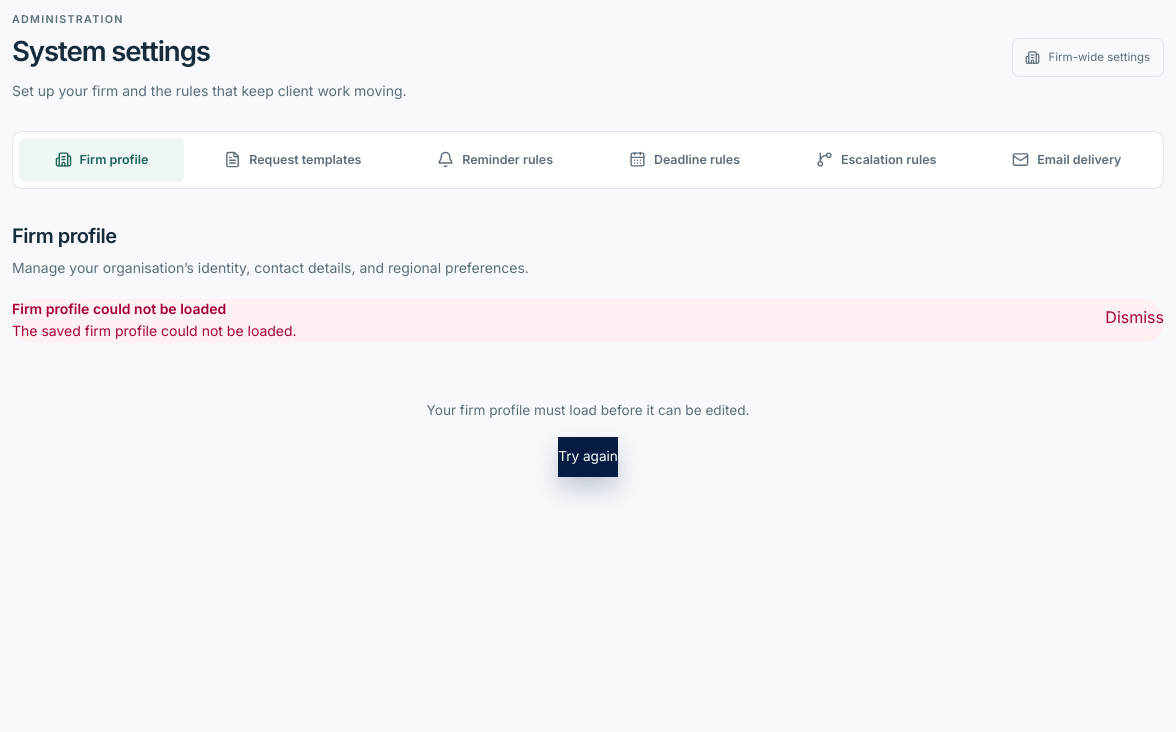
Test case: system settings › does not allow overwriting settings when loading fails
This screenshot has width=1176, height=732.
Expected: the text "Firm profile could not be loaded" is shown, [12,300,226,317]
Click the button "Request templates" at (293, 160), box [188,138,397,182]
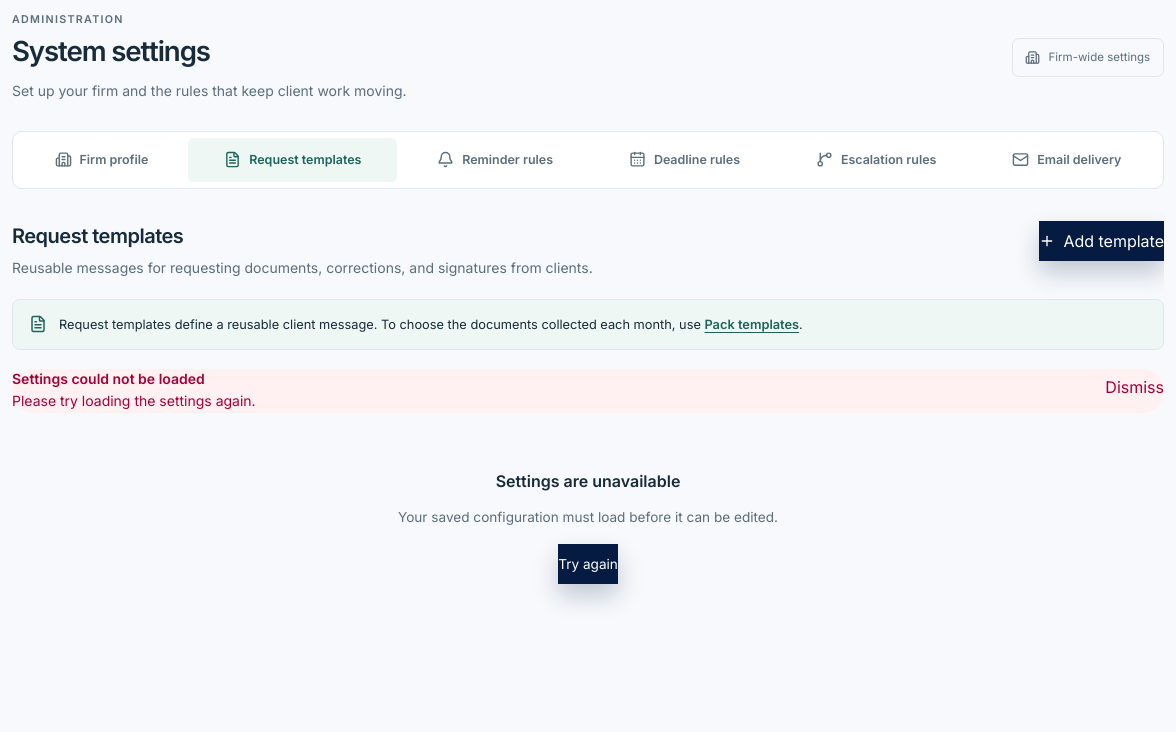
Now the text "Settings could not be loaded" is shown, box [12,370,205,387]
Now the button "Add template" is disabled, box [1039,221,1164,261]
